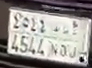4: (27, 15, 38, 57), (37, 18, 48, 59), (10, 10, 20, 54)
5: (19, 14, 30, 54)
J: (69, 21, 80, 61)
N: (49, 22, 60, 58)
